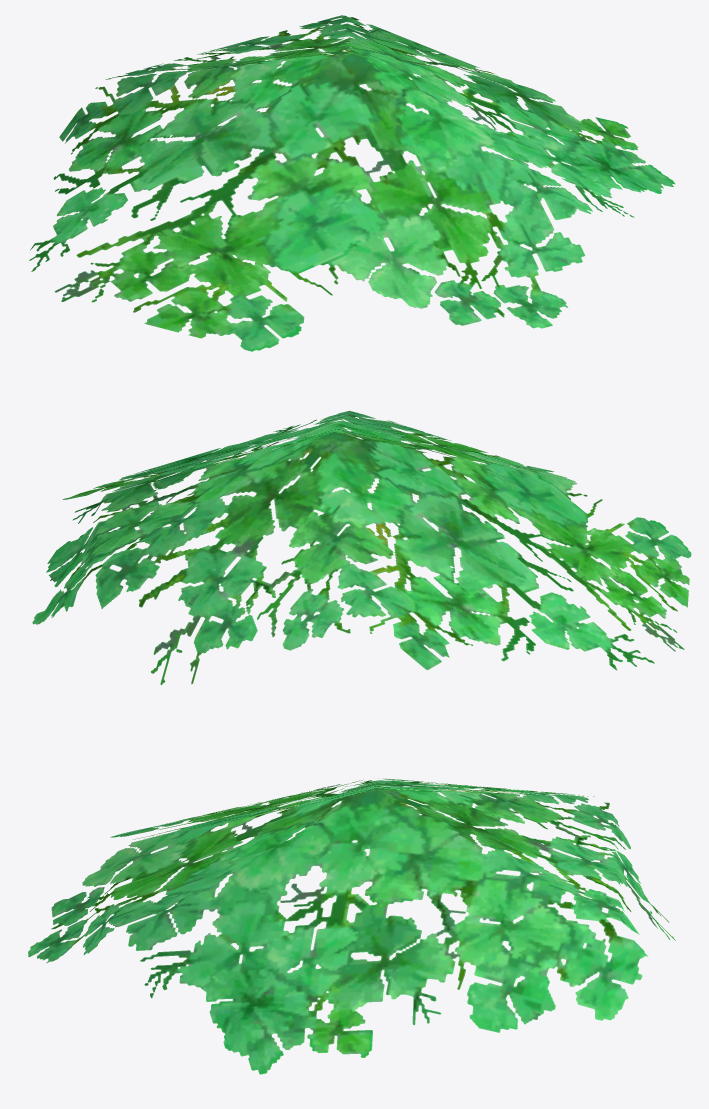
Rendered from nml-bd023.glb.
The picture shows the model from 3 angles, top to bottom: view 1: azimuth 30°, elevation 25°; view 2: azimuth 150°, elevation 25°; view 3: azimuth 270°, elevation 25°; orthographic projection. The views are drawn at different scales.
Visible parts, largest first — view 1: geom_node_0; view 2: geom_node_0; view 3: geom_node_0.
Boxes of the visible parts, bbox=[...] form: geom_node_0: bbox=[29, 15, 675, 351]; geom_node_0: bbox=[32, 410, 691, 685]; geom_node_0: bbox=[28, 778, 675, 1074].
Size of the model in its own units: 3.72 by 0.8487 by 3.37.
1 material, 1 textured.
